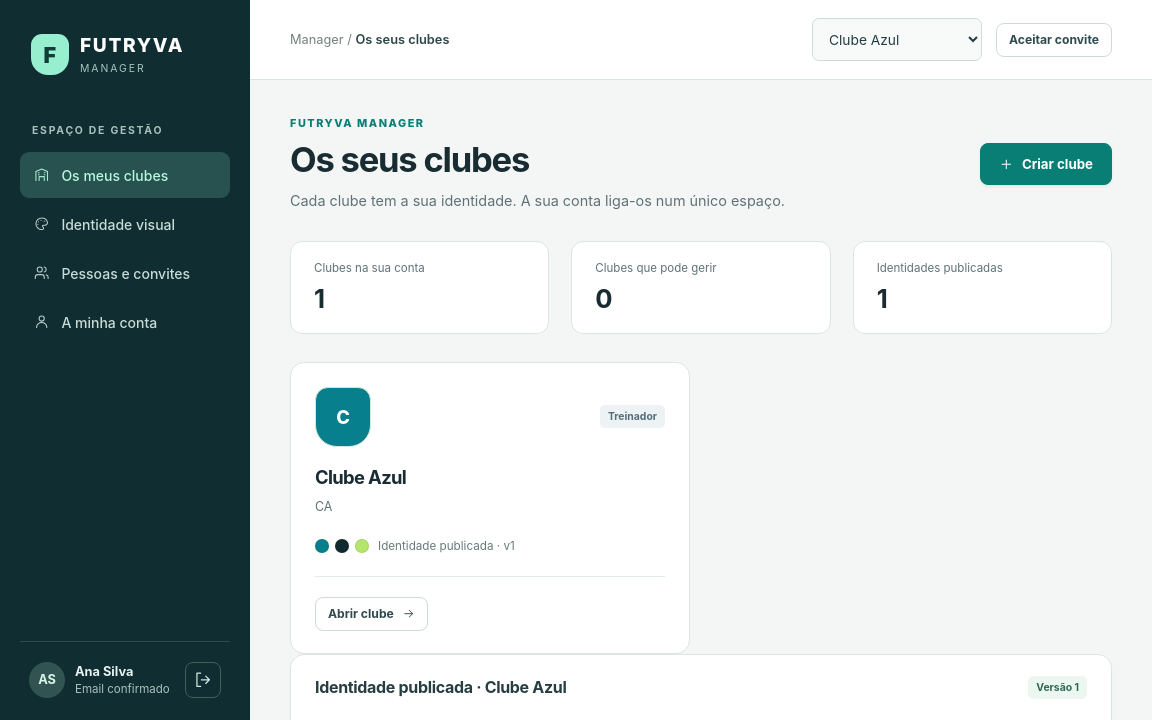
Test: gestão e isolamento visual › não apresenta edição ou consulta dados de membros a um treinador
Expected: the dropdown named "Clube ativo" is shown, x1=812 y1=18 x2=982 y2=61
Click the button "Identidade visual" at (125, 224), box x1=20 y1=201 x2=230 y2=247
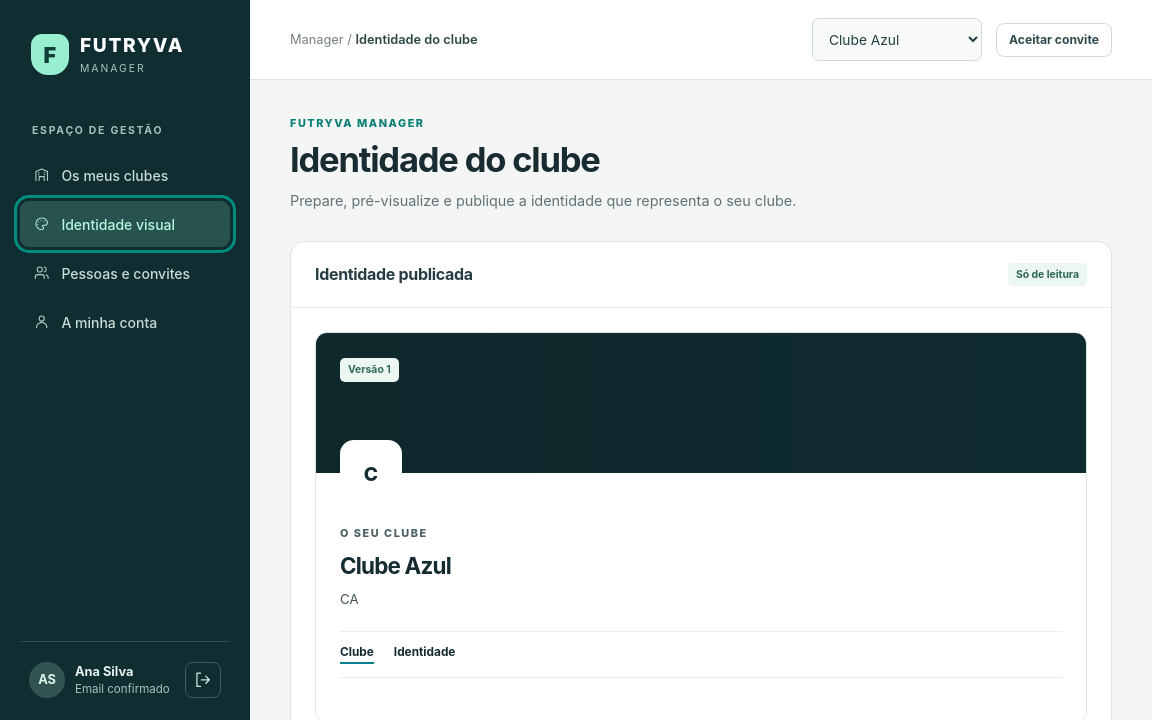
Expected: the text "Só de leitura" is shown, x1=1008 y1=262 x2=1087 y2=286
Click the button "Pessoas e convites" at (125, 273), box x1=20 y1=250 x2=230 y2=296
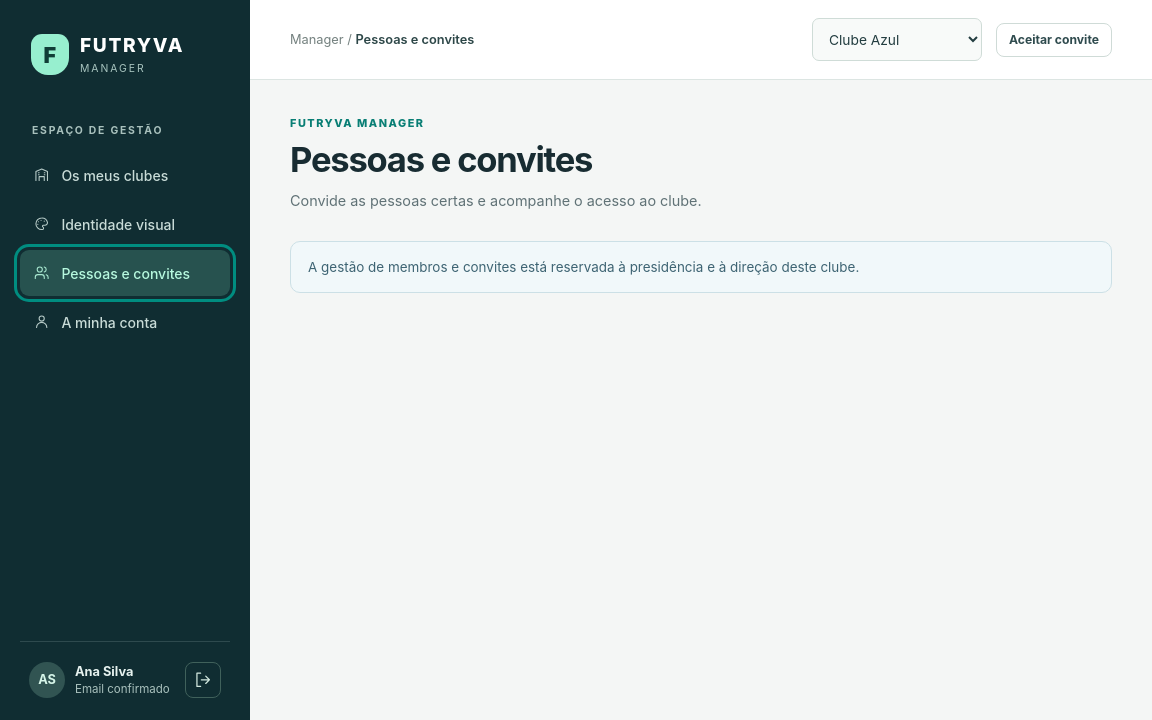
Expected: the text "gestão de membros e convites está reservada" is shown, x1=308 y1=258 x2=859 y2=274
